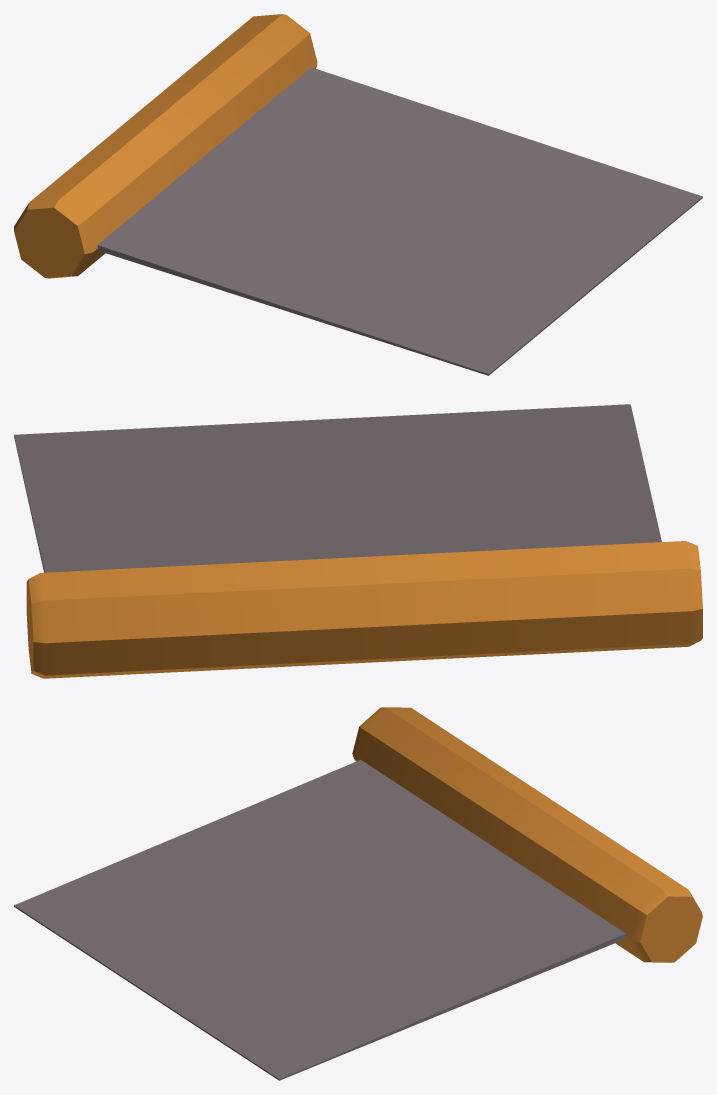
The model's file is dough cutter.fbx.
3 views of the same model, one above another, from view 1: azimuth 30°, elevation 25°; view 2: azimuth 150°, elevation 25°; view 3: azimuth 270°, elevation 25° (orthographic). The views are drawn at different scales.
Parts seen in each view (by area): view 1: dough cutter; view 2: dough cutter; view 3: dough cutter.
Boxes of the visible parts, x1,y1,x2,y2 form: dough cutter: (14,14,702,375); dough cutter: (14,404,702,678); dough cutter: (14,707,702,1080).
Bounding box in the file's own units: 24.76 × 3.88 × 24.87.
